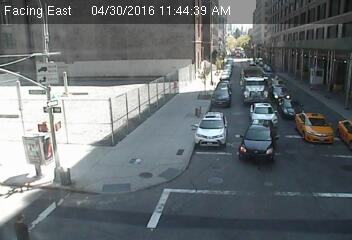neg: (212, 101, 258, 163), (90, 147, 124, 193), (39, 146, 70, 187), (287, 89, 318, 130), (161, 60, 189, 98), (256, 178, 282, 214), (62, 56, 85, 86), (163, 133, 184, 161), (103, 108, 123, 134), (233, 56, 252, 81), (42, 100, 61, 124)
